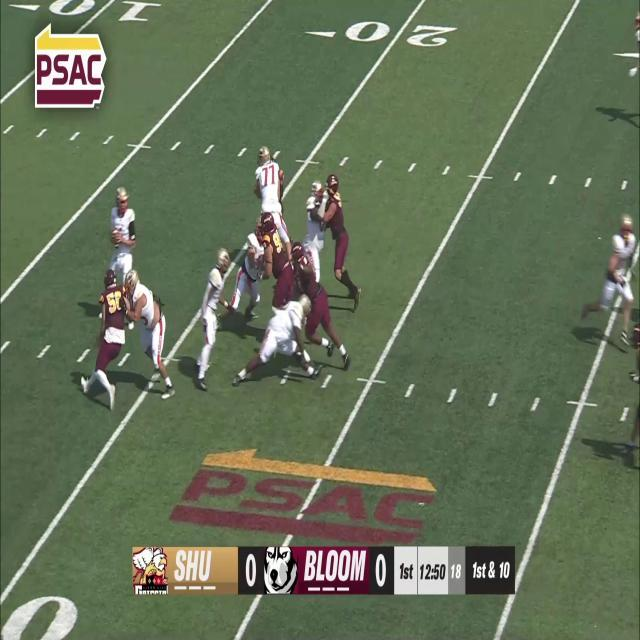football: (110, 226, 120, 248)
